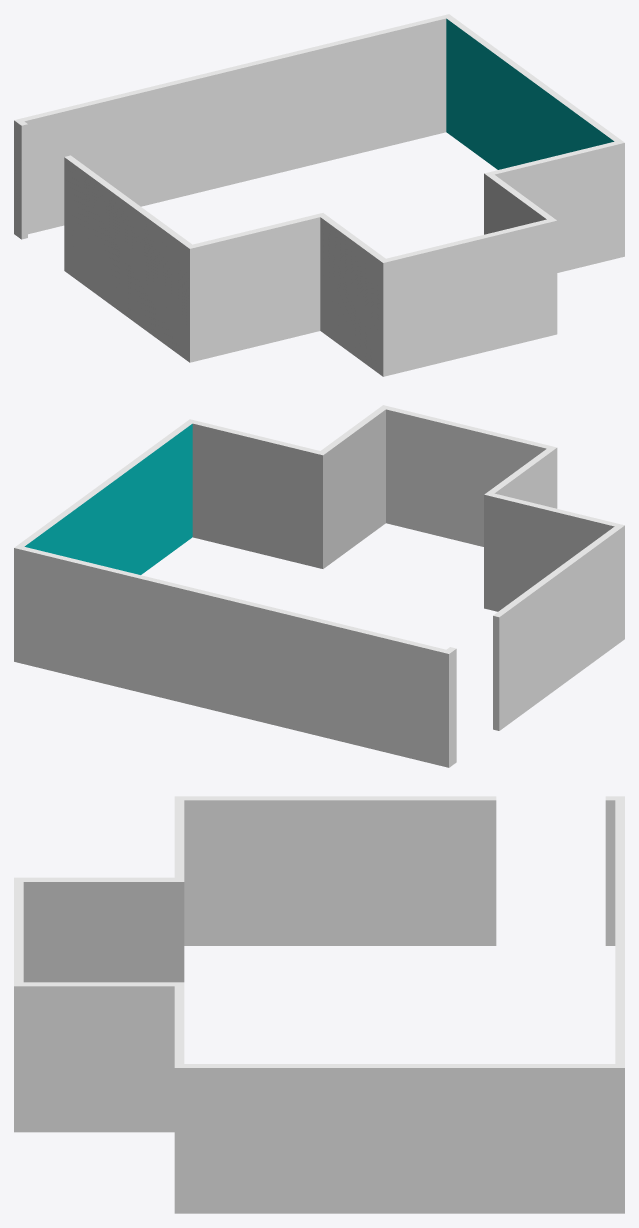
File: lar_walls_3.dae
3 views of the same model, one above another, from view 1: azimuth 30°, elevation 25°; view 2: azimuth 150°, elevation 25°; view 3: azimuth 270°, elevation 25° (orthographic). The views are drawn at different scales.
Visible parts, largest first — view 1: SketchUp (×4); view 2: SketchUp (×4); view 3: SketchUp (×3).
Part boxes in pixels (left/top/right/bottom): SketchUp (×4): left=14, top=14, right=624, bottom=376; SketchUp (×4): left=14, top=405, right=624, bottom=767; SketchUp (×3): left=14, top=796, right=624, bottom=1213.
Bounding box in the file's own units: 394 × 374 × 98.43.
